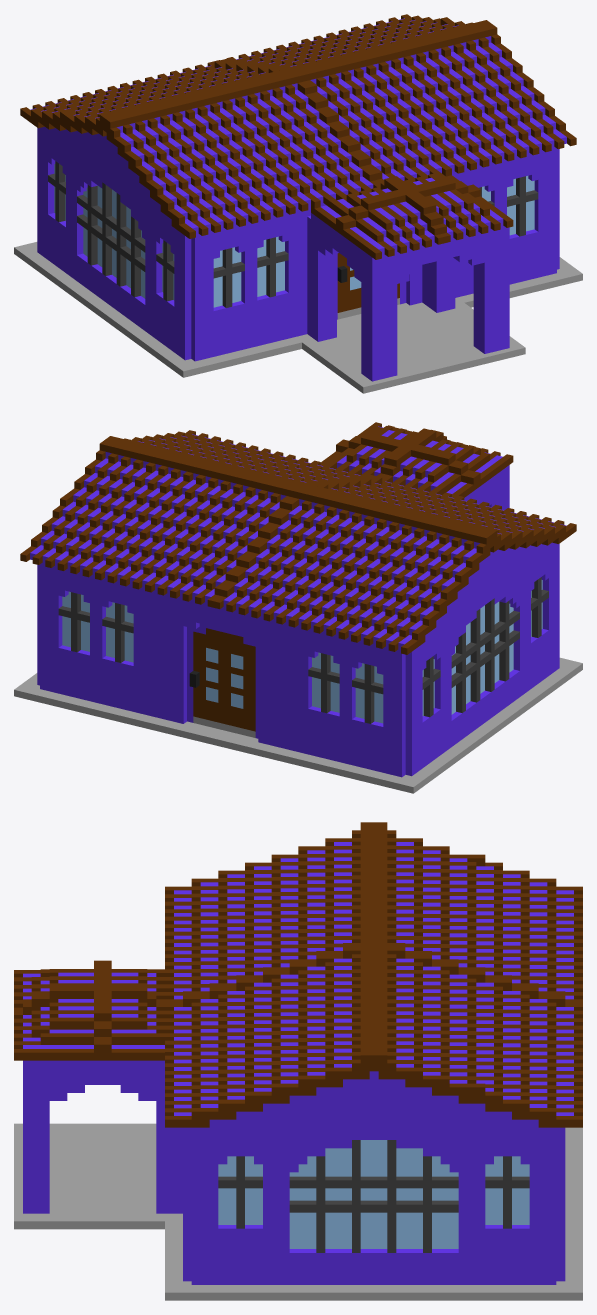
The model's file is obj_house5c.obj.
3 views of the same model, one above another, from view 1: azimuth 30°, elevation 25°; view 2: azimuth 150°, elevation 25°; view 3: azimuth 270°, elevation 25° (orthographic). The views are drawn at different scales.
Bounding box in the file's own units: 6.4 × 3 × 6.4.
Materials: 1 (1 with a texture image).
